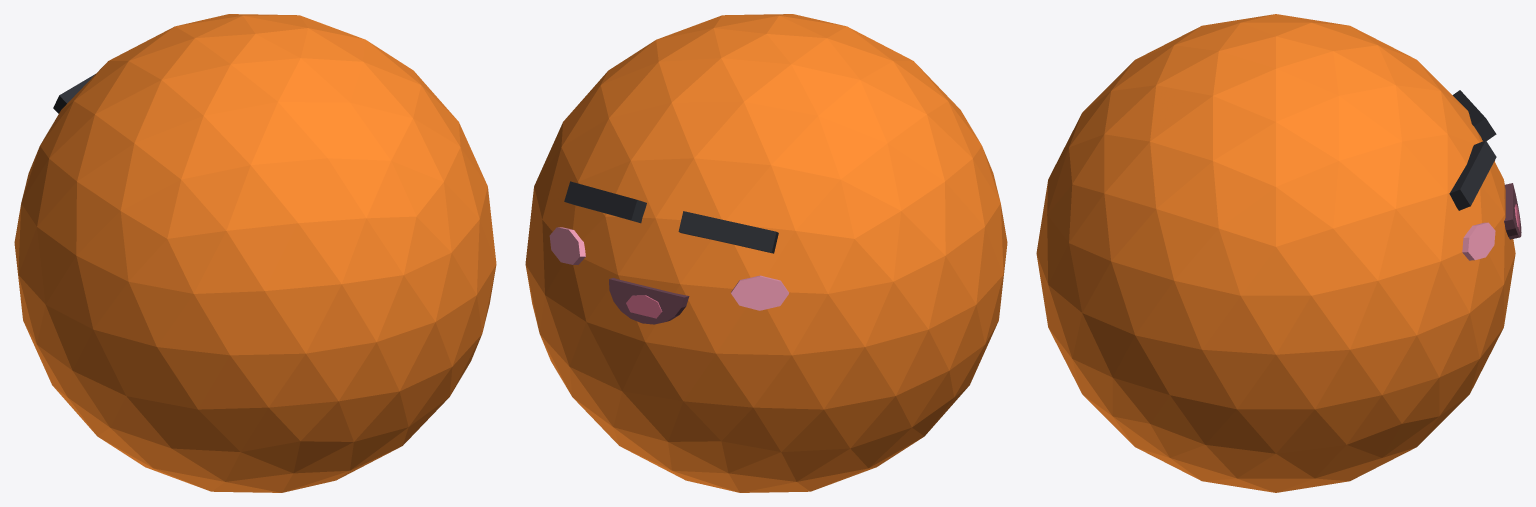
File: CH_Topik_T1_Blink.fbx
The picture shows the model from 3 angles, left to right: view 1: azimuth 30°, elevation 25°; view 2: azimuth 150°, elevation 25°; view 3: azimuth 270°, elevation 25°; orthographic projection.
Parts seen in each view (by area): view 1: CH_Topik_T1_Blink; view 2: CH_Topik_T1_Blink; view 3: CH_Topik_T1_Blink.
Boxes of the visible parts, x1,y1,x2,y2 form: CH_Topik_T1_Blink: (14, 14, 496, 492); CH_Topik_T1_Blink: (525, 14, 1007, 492); CH_Topik_T1_Blink: (1036, 14, 1521, 492).
Bounding box in the file's own units: 1 × 1 × 1.01.
